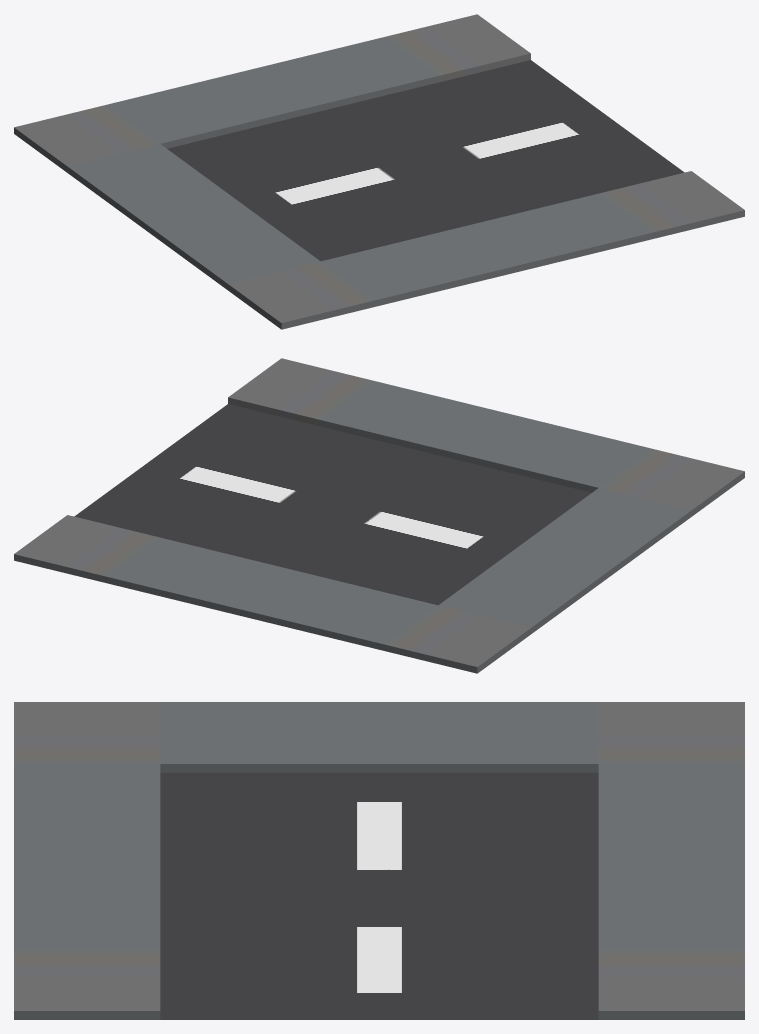
Rendered from DeadEnd.fbx.
3 views of the same model, one above another, from view 1: azimuth 30°, elevation 25°; view 2: azimuth 150°, elevation 25°; view 3: azimuth 270°, elevation 25° (orthographic). The views are drawn at different scales.
Visible parts, largest first — view 1: DeadEnd; view 2: DeadEnd; view 3: DeadEnd.
Boxes of the visible parts, box(x1,y1,x2,y2) form: DeadEnd: box(14, 14, 744, 329); DeadEnd: box(14, 358, 744, 673); DeadEnd: box(14, 702, 744, 1019).
Bounding box in the file's own units: 1000 × 13.49 × 1000.
